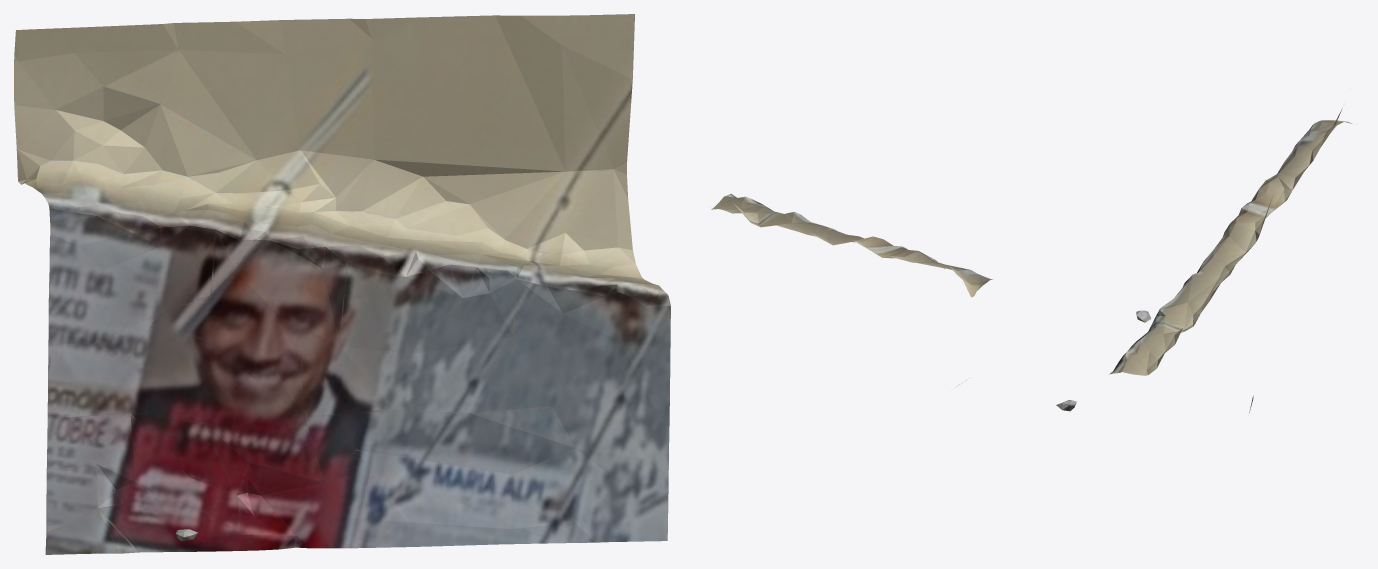
The picture shows the model from 3 angles, left to right: view 1: azimuth 30°, elevation 25°; view 2: azimuth 150°, elevation 25°; view 3: azimuth 270°, elevation 25°; orthographic projection. The views are drawn at different scales.
Size of the model in its own units: 1.67 by 1.67 by 1.06.
Materials: 3 (3 with a texture image).
